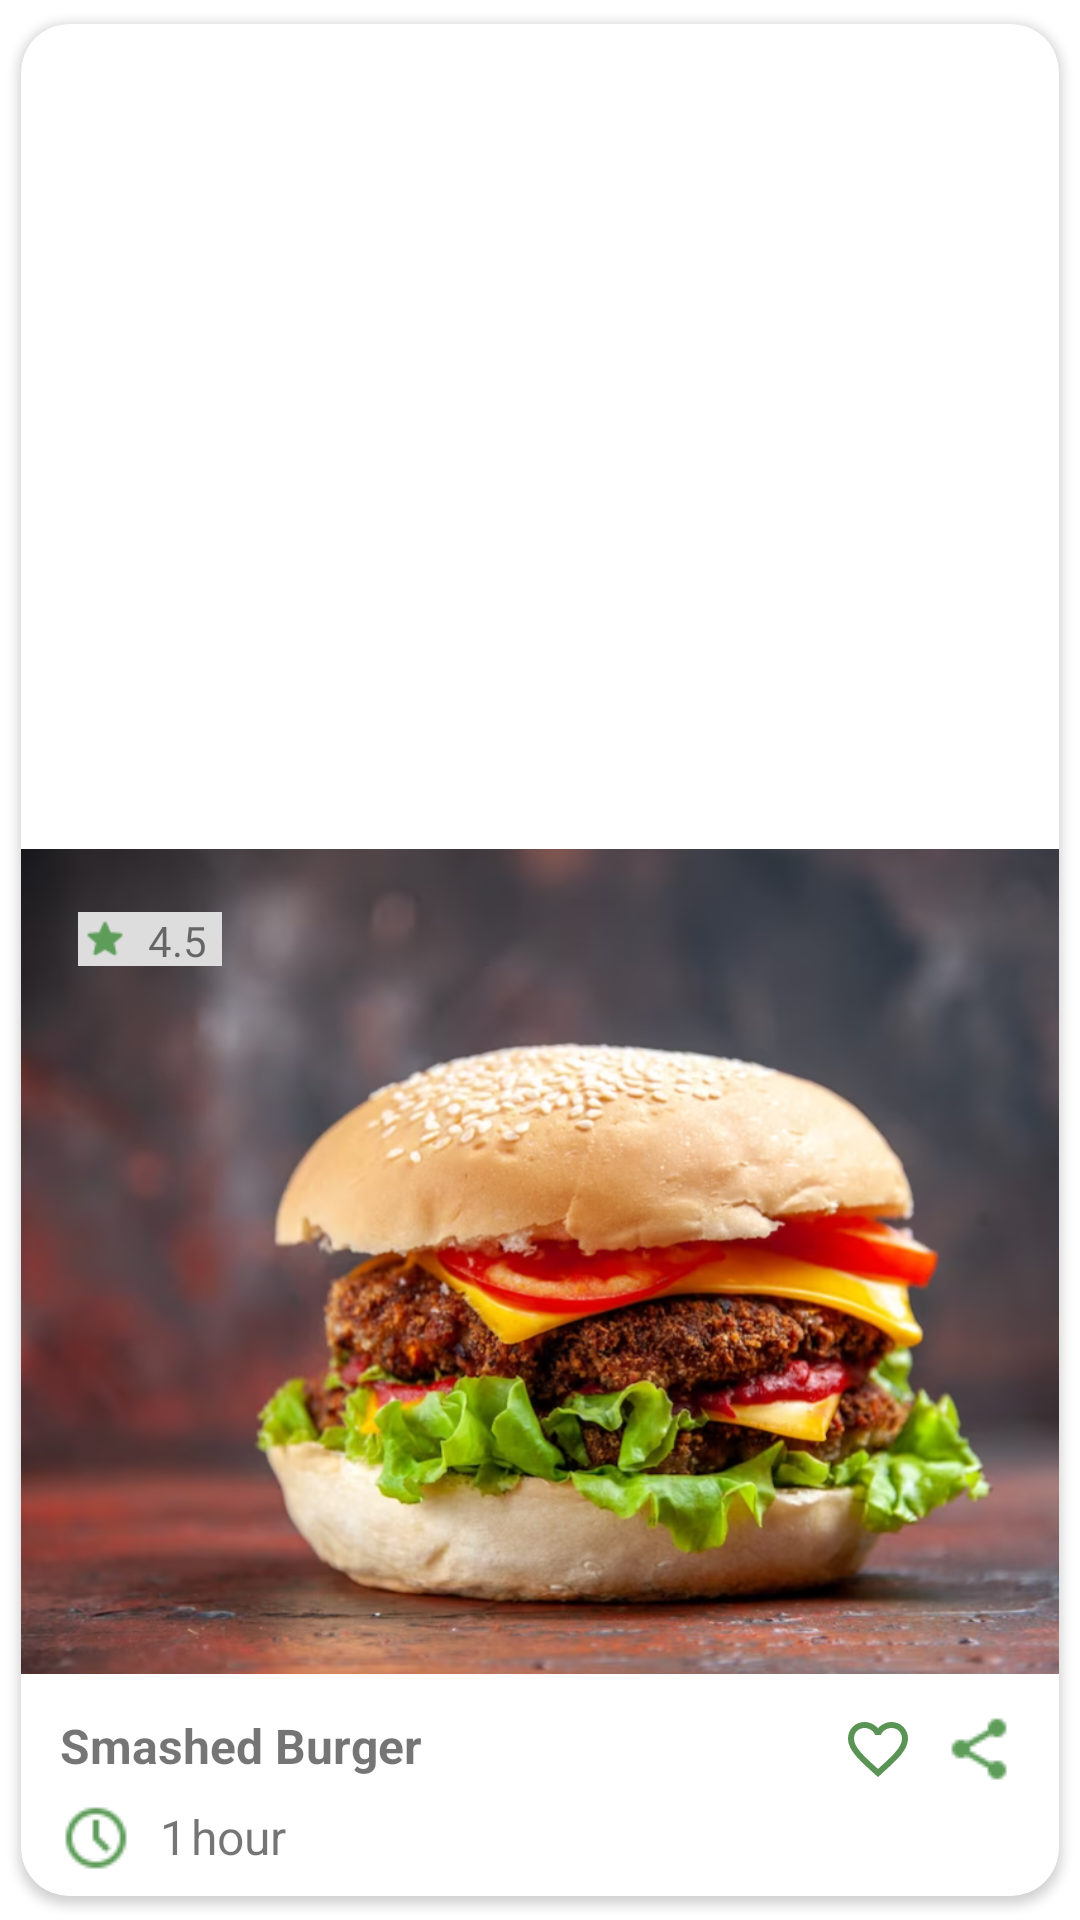

Where to tap for icons on this 1080 × 1920 app screen, as [x,y]:
clock: [96,1838]
favorite border: [878,1749]
share: [979,1749]
starg: [105,939]
